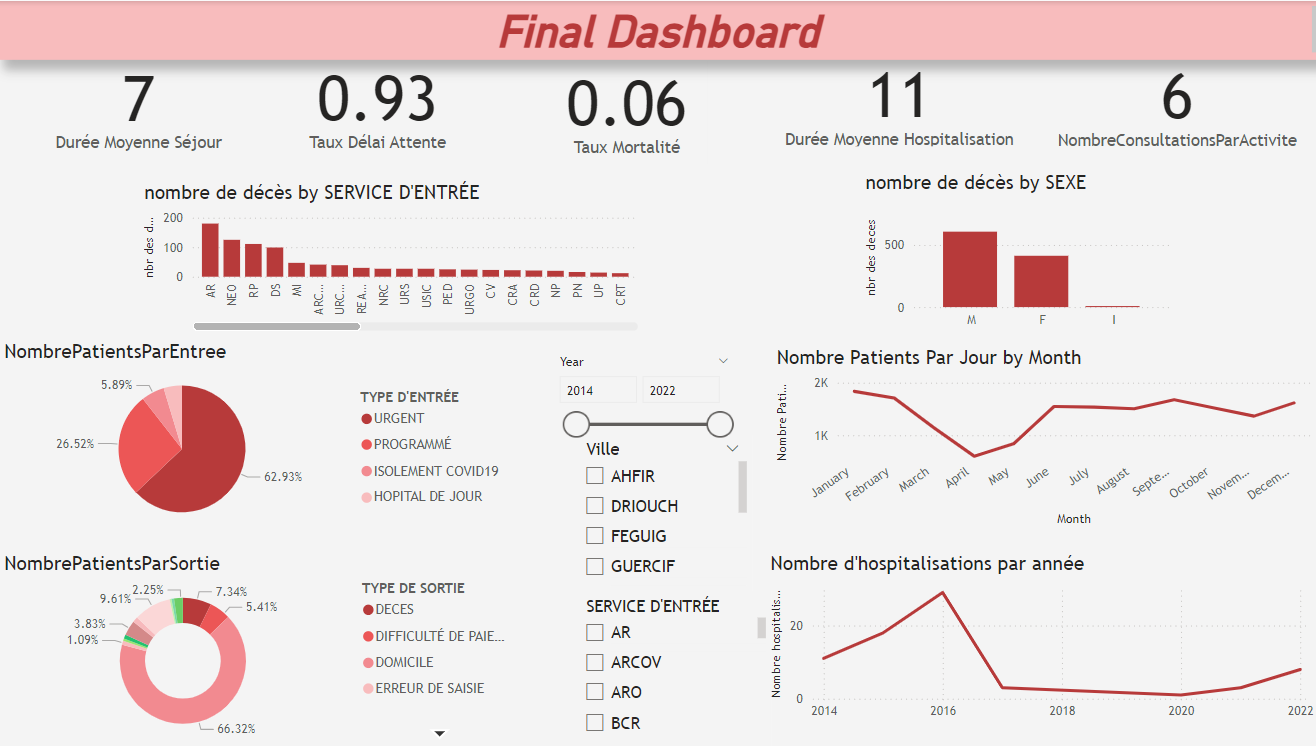

What the dashboard file says about the page in this screenshot:
{"tool":"powerbi","page":{"name":"patients","canvas":[1280,720],"ordinal":0},"visuals":[{"type":"card","fields":{"Values":["Mesures Table.Durée Moyenne Hospitalisation"]},"box":[749.9,45.9,237.3,99.7],"z":0},{"type":"card","fields":{"Values":["Mesures Table.Durée Moyenne Séjour"]},"box":[29.9,47.9,209.4,101.7],"z":1000},{"type":"card","fields":{"Values":["Mesures Table.Taux Délai Attente"]},"box":[267.3,39.9,195.5,117.7],"z":2000},{"type":"card","fields":{"Values":["Mesures Table.Taux Mortalité"]},"box":[528.5,49.9,155.6,107.7],"z":3000},{"type":"slicer","fields":{"Values":["HOSPITALISATION.Ville"]},"box":[553.3,418.3,173.3,151.7],"z":4000},{"type":"lineChart","fields":{"Y":["Mesures Table.Nombre Patients Par Jour"],"Category":["data1.DATE ENTRÉE.Variation.Date Hierarchy.Month"]},"box":[745,333.3,525,178.3],"z":5000},{"type":"lineChart","title":"Nombre d''hospitalisations  par année","fields":{"Category":["HOSPITALISATION.Date entrée.Variation.Date Hierarchy.Year","HOSPITALISATION.Date entrée.Variation.Date Hierarchy.Quarter","HOSPITALISATION.Date entrée.Variation.Date Hierarchy.Month","HOSPITALISATION.Date entrée.Variation.Date Hierarchy.Day"],"Y":["Mesures Table.nbr hospitalisations"]},"box":[739.9,532.5,534.5,169.5],"z":6000},{"type":"slicer","fields":{"Values":["HOSPITALISATION.Date entrée.Variation.Date Hierarchy.Year"]},"box":[528.3,336.7,188.3,86.7],"z":7000},{"type":"clusteredColumnChart","title":"nombre de décès by SEXE","fields":{"Y":["Mesures Table.nbr des deces"],"Category":["data1.SEXE"]},"box":[831.7,163.5,305.2,159.6],"z":8000},{"type":"donutChart","title":"NombrePatientsParSortie","fields":{"Y":["Mesures Table.NombrePatientsParEntrée","Count(data1.IPP)"],"Category":["data1.TYPE DE SORTIE"]},"box":[0,531.7,503.3,188.3],"z":9000},{"type":"pieChart","title":"NombrePatientsParEntree ","fields":{"Y":["Count(data1.IPP)"],"Category":["data1.TYPE D'ENTRÉE"]},"box":[0,327.1,496.6,189.5],"z":10000},{"type":"textbox","box":[0,0,1280,56.7],"z":11000},{"type":"slicer","fields":{"Values":["data1.SERVICE D'ENTRÉE"]},"box":[553.3,570,191.7,150],"z":12000},{"type":"lineStackedColumnComboChart","title":"nombre de décès by SERVICE D''ENTRÉE","fields":{"Category":["data1.SERVICE D'ENTRÉE"],"Y":["Mesures Table.nbr des deces"]},"box":[135.6,173.5,486.6,149.6],"z":13000},{"type":"card","fields":{"Values":["Mesures Table.NombreConsultationsParActivite"]},"box":[1003.2,45.9,267.3,101.7],"z":14000}]}

Visuals, with their boxes in screenshot pixels (x1, y1, x2, y2), scaled from the page's 1280x720 canvas onto the 1316x746 screenshot:
card - Mesures Table.Durée Moyenne Hospitalisation: box=[771, 48, 1015, 151]
card - Mesures Table.Durée Moyenne Séjour: box=[31, 50, 246, 155]
card - Mesures Table.Taux Délai Attente: box=[275, 41, 476, 163]
card - Mesures Table.Taux Mortalité: box=[543, 52, 703, 163]
slicer - HOSPITALISATION.Ville: box=[569, 433, 747, 591]
lineChart - Mesures Table.Nombre Patients Par Jour x data1.DATE ENTRÉE.Variation.Date Hierarchy.Month: box=[766, 345, 1306, 530]
"Nombre d''hospitalisations  par année" lineChart: box=[761, 552, 1310, 727]
slicer - HOSPITALISATION.Date entrée.Variation.Date Hierarchy.Year: box=[543, 349, 737, 439]
"nombre de décès by SEXE" clusteredColumnChart: box=[855, 169, 1169, 335]
"NombrePatientsParSortie" donutChart: box=[0, 551, 517, 745]
"NombrePatientsParEntree " pieChart: box=[0, 339, 511, 535]
textbox: box=[0, 0, 1315, 59]
slicer - data1.SERVICE D'ENTRÉE: box=[569, 591, 766, 745]
"nombre de décès by SERVICE D''ENTRÉE" lineStackedColumnComboChart: box=[139, 180, 640, 335]
card - Mesures Table.NombreConsultationsParActivite: box=[1031, 48, 1306, 153]
